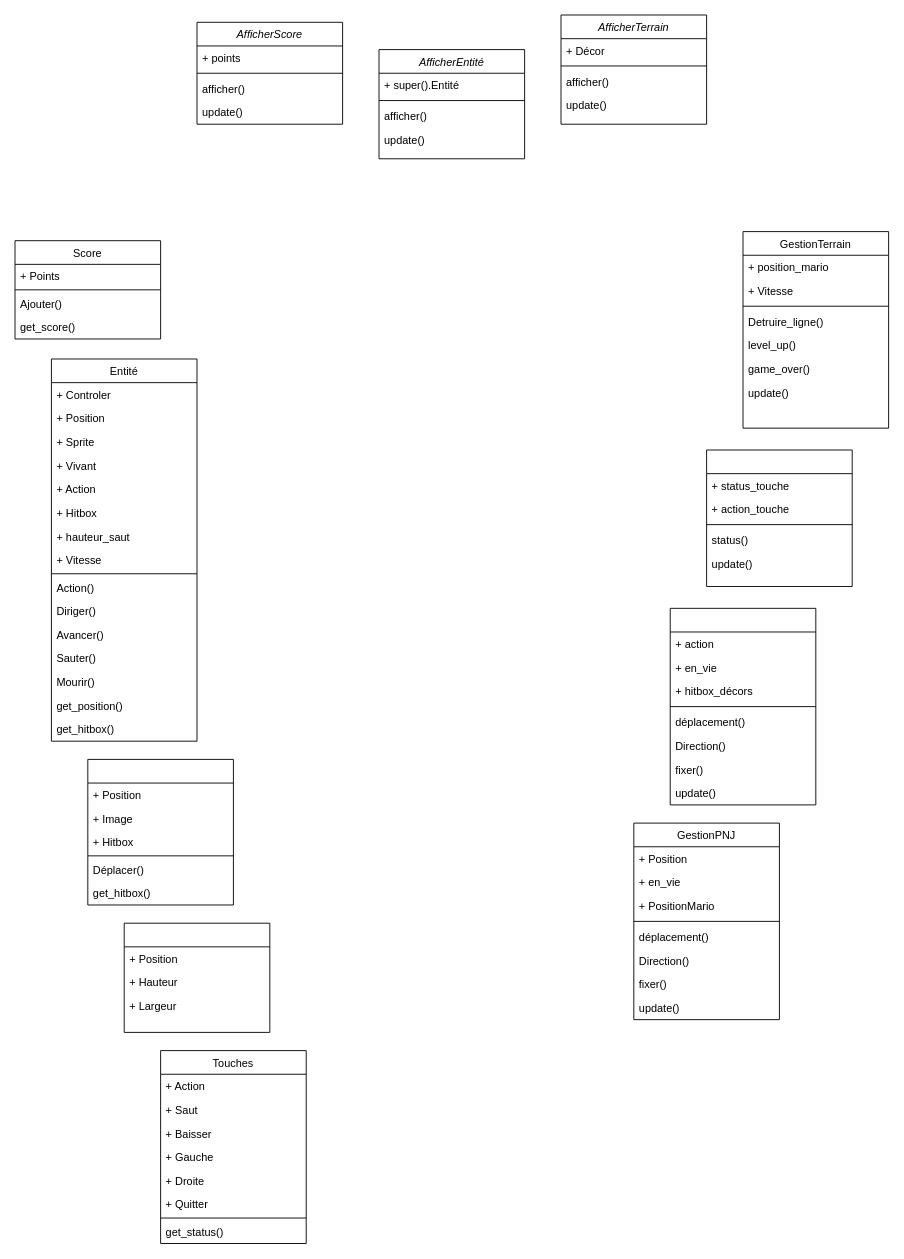
Some shapes in this 904 by 1259 pixel diagram are drawn without their labels. Each missing label, with the box of its shape:
Décors: (87, 758, 233, 905)
FenetreDeJeu: (123, 922, 270, 1032)
GestionMario: (669, 607, 816, 805)
GestionTouches: (706, 449, 852, 586)
